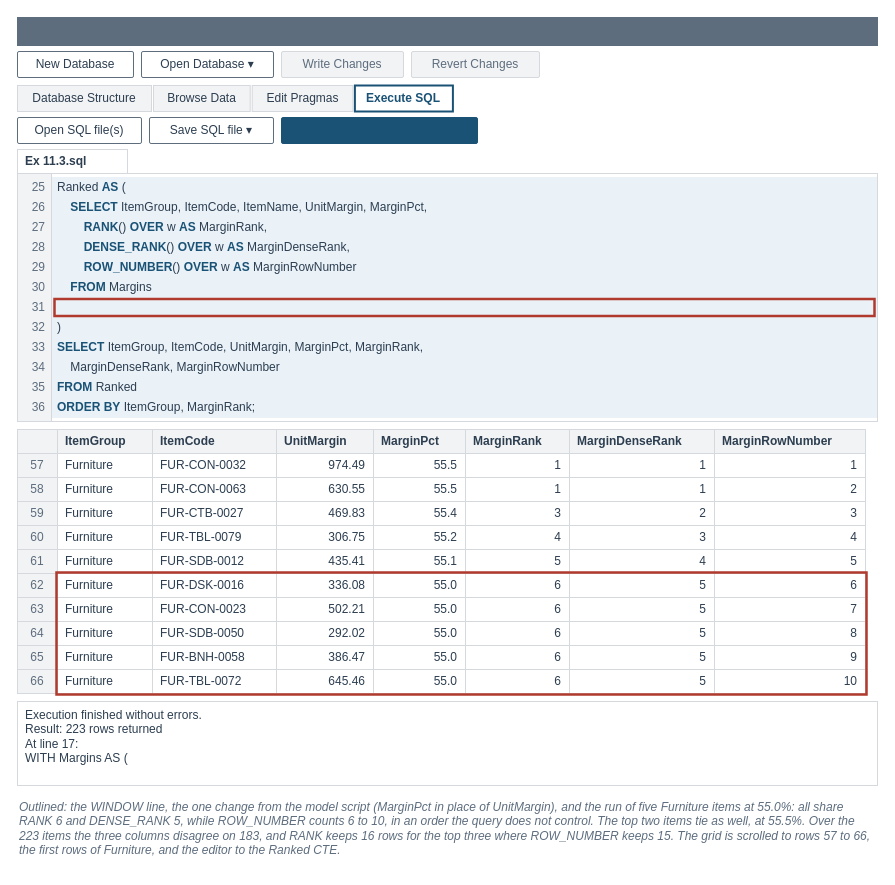
The diagram is 895 pixels wide and 885 high, and some of its shapes have lost their labels. The shapes that lost their labels are listed below. From the top down, each one's centre as x and y in pixels, then its label:
[447,31]: DB Browser for SQLite - C:\Users\you\Documents\CharlesRiver_Work.sqlite
[379,130]: ▶ Execute all/selected SQL
[464,307]: WINDOW w AS ( PARTITION BY ItemGroup ORDER BY MarginPct DESC )
